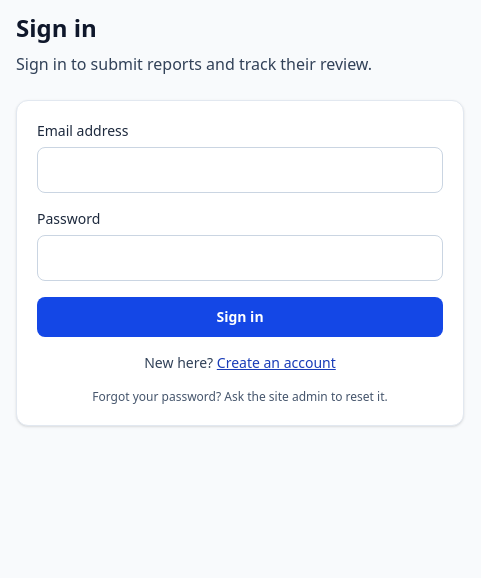
Scenario: LoginPage › asks unverified users to verify, and can resend the email
This screenshot has width=481, height=578.
Type "rahim@example.com" into the field labelled "Email address" at (240, 170), box [37, 147, 443, 193]
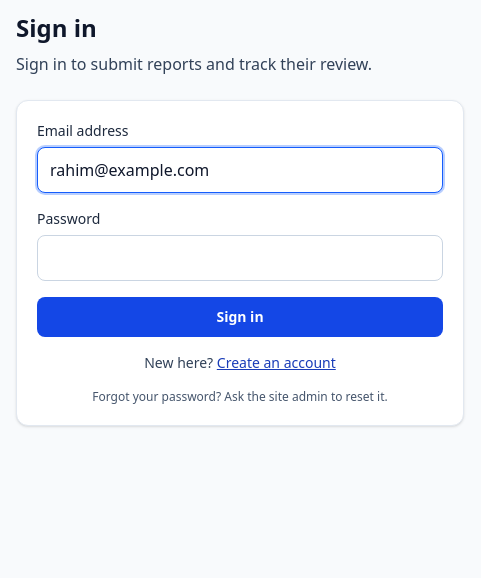
Type "secret-pass" into the password field labelled "Password" at (240, 258), box [37, 235, 443, 281]
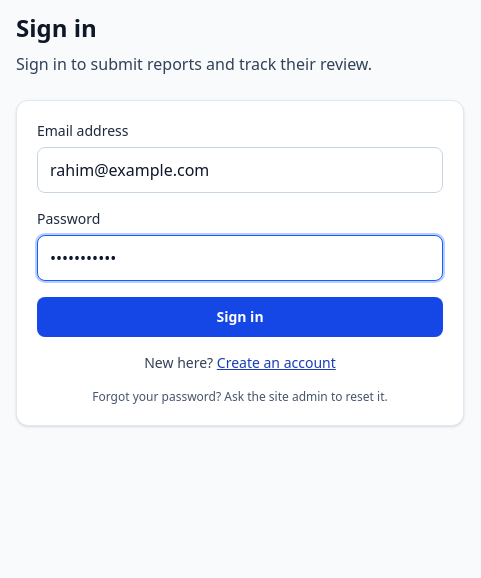
Click the button "Sign in" at (240, 317), box [37, 297, 443, 337]
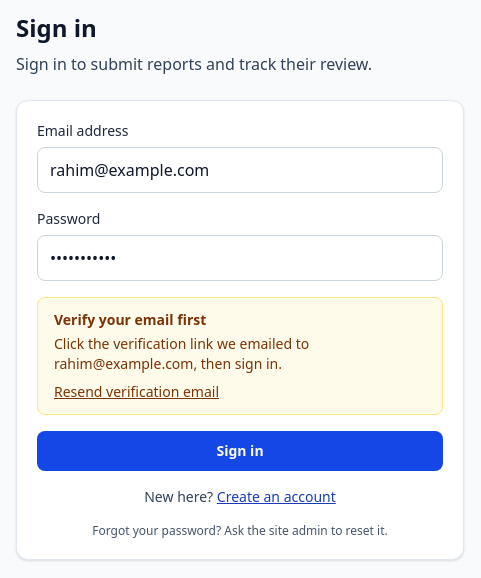
Check: the text "Verify your email first" is shown, box [54, 310, 206, 329]
Click the button "Resend verification email" at (136, 392), box [54, 382, 219, 402]
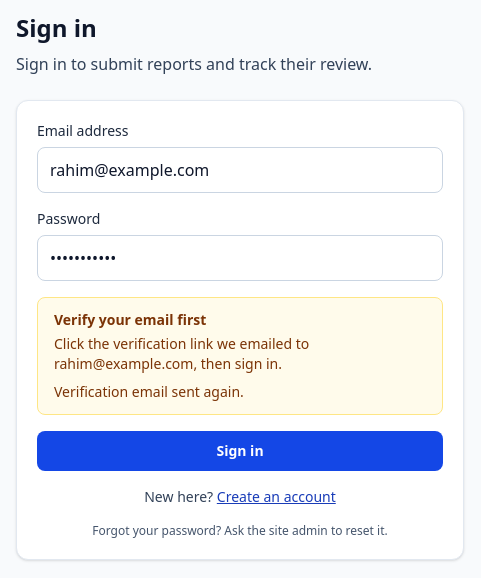
Check: the text "Verification email sent again." is shown, box [54, 382, 244, 401]
